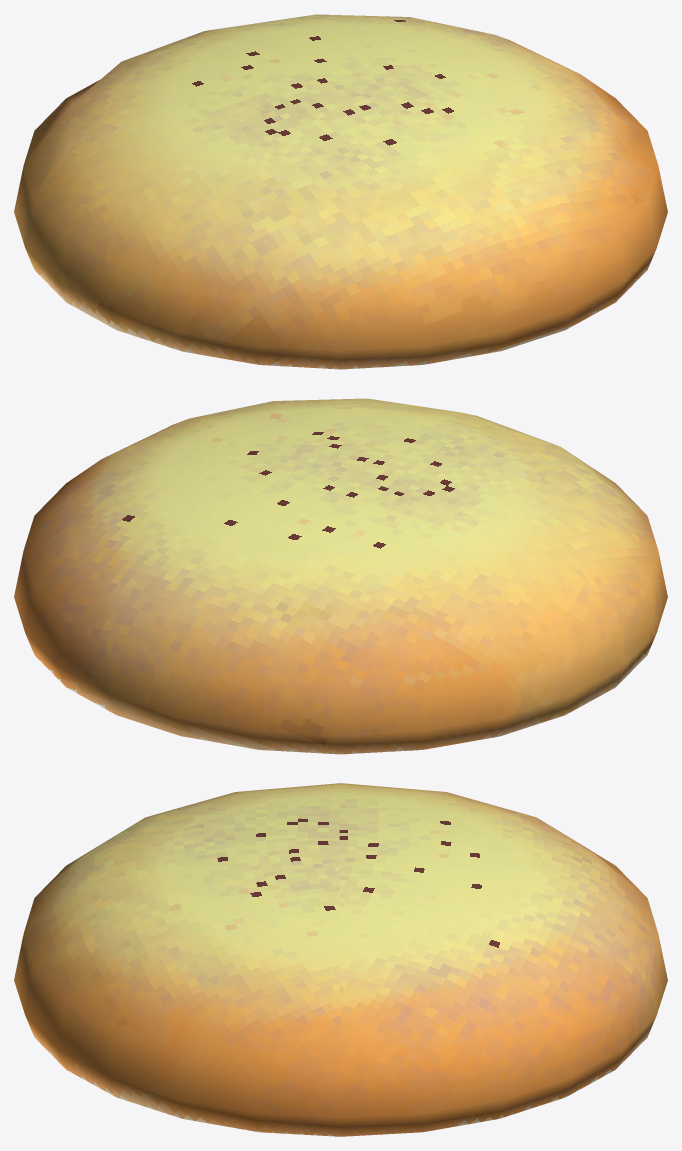
File: Bun-crown.glb
3 views of the same model, one above another, from view 1: azimuth 30°, elevation 25°; view 2: azimuth 150°, elevation 25°; view 3: azimuth 270°, elevation 25° (orthographic).
Parts seen in each view (by area): view 1: Bun-crown; view 2: Bun-crown; view 3: Bun-crown.
Part boxes in pixels (x1,y1,x2,y2): Bun-crown: [14, 14, 667, 369]; Bun-crown: [14, 398, 667, 754]; Bun-crown: [14, 783, 667, 1136].
Size of the model in its own units: 2.38 by 0.579 by 2.38.
1 material, 1 textured.
